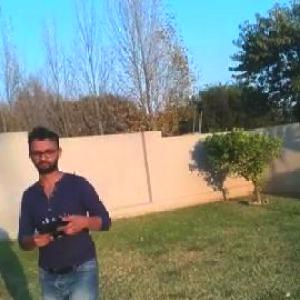follow: (12, 119, 115, 299)
